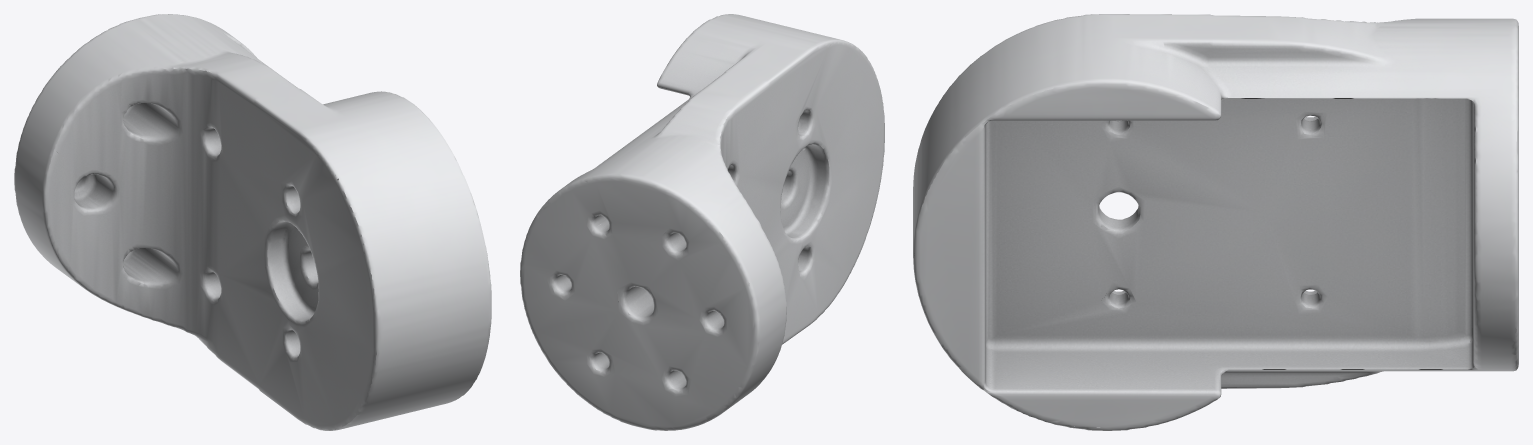
Rendered from left_shoulder.glb.
The picture shows the model from 3 angles, left to right: view 1: azimuth 30°, elevation 25°; view 2: azimuth 150°, elevation 25°; view 3: azimuth 270°, elevation 25°; orthographic projection. The views are drawn at different scales.
Visible parts, largest first — view 1: left_shoulder; view 2: left_shoulder; view 3: left_shoulder.
Part boxes in pixels (x1,y1,x2,y2): left_shoulder: [14, 14, 491, 430]; left_shoulder: [520, 14, 884, 430]; left_shoulder: [913, 14, 1518, 430].
Size of the model in its own units: 0.0615 by 0.0676 by 0.1057.
Materials: 1 (1 with a texture image).
